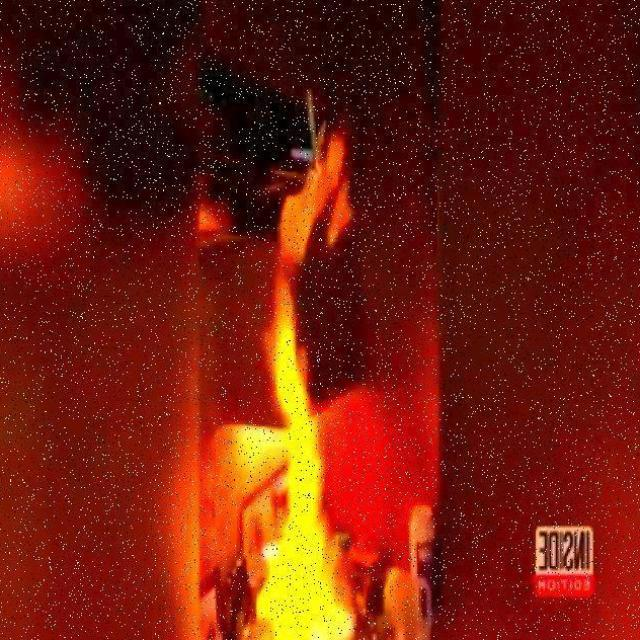smoke: (262, 130, 353, 640)
